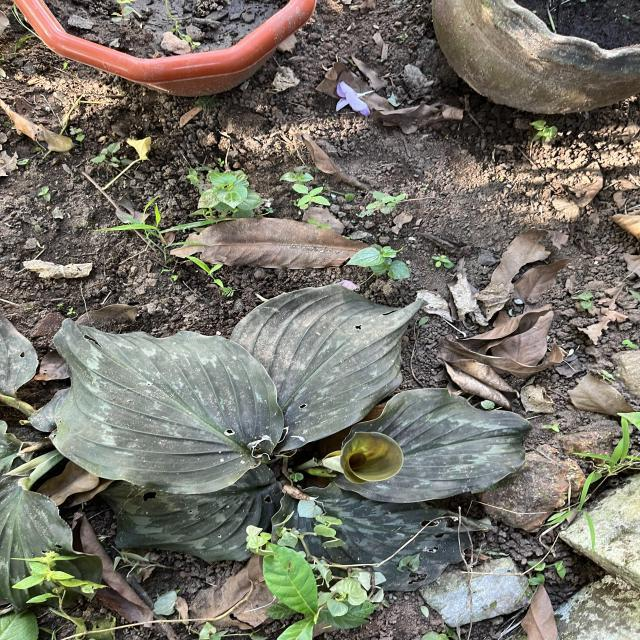Kaempferia galanga linn: (49, 314, 288, 497), (228, 282, 430, 455), (328, 384, 537, 506)
